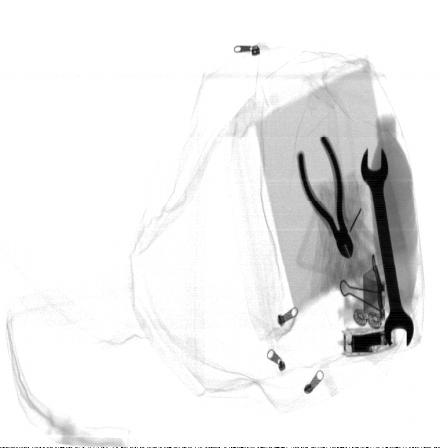Pliers: (297, 133, 355, 261)
Wrench: (361, 148, 414, 346)
